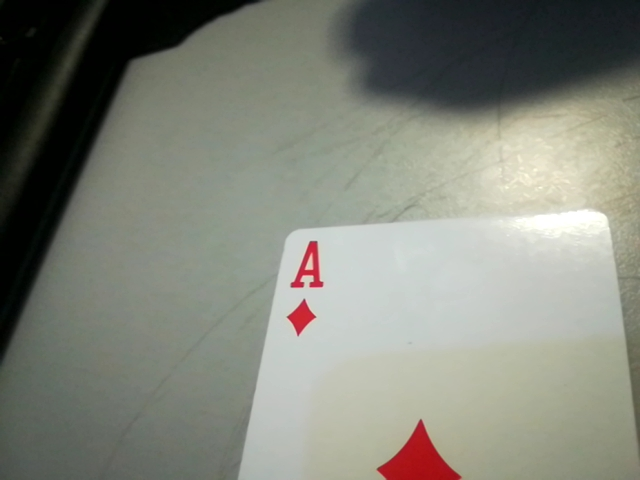fk a: (274, 234, 336, 343)
